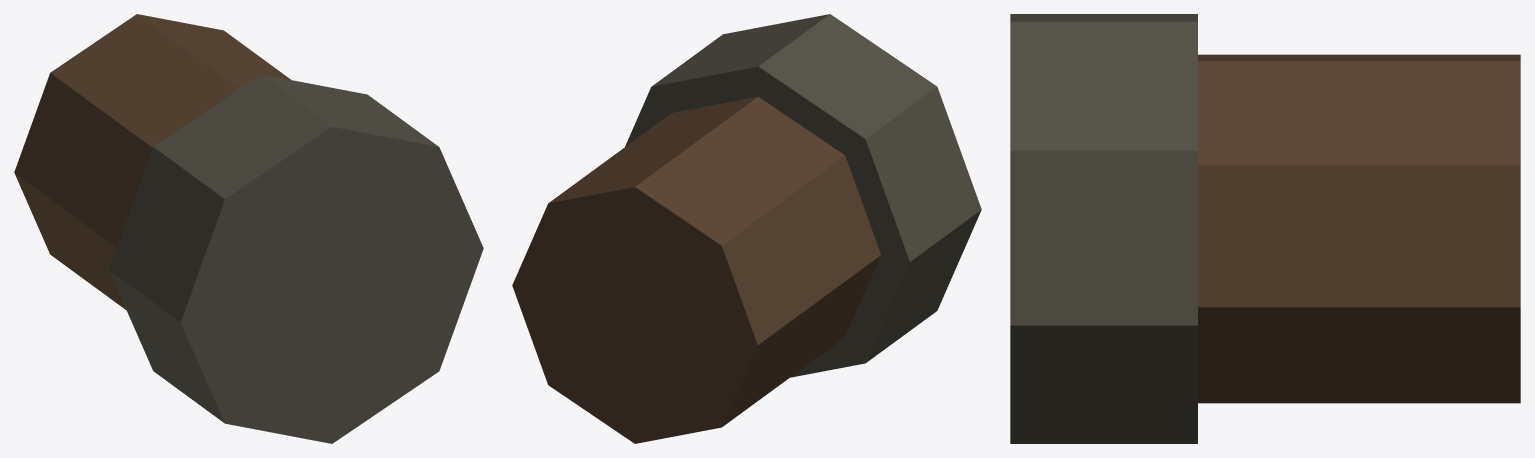
Rendered from windshaft.glb.
3 views of the same model, side by side, from view 1: azimuth 30°, elevation 25°; view 2: azimuth 150°, elevation 25°; view 3: azimuth 270°, elevation 25° (orthographic). The views are drawn at different scales.
Parts seen in each view (by area): view 1: Windshaft; view 2: Windshaft; view 3: Windshaft.
Boxes of the visible parts, <box> form: Windshaft: <box>14,14,483,443</box>; Windshaft: <box>512,14,981,443</box>; Windshaft: <box>1010,14,1520,443</box>.
Size of the model in its own units: 0.39 by 0.39 by 0.435.
